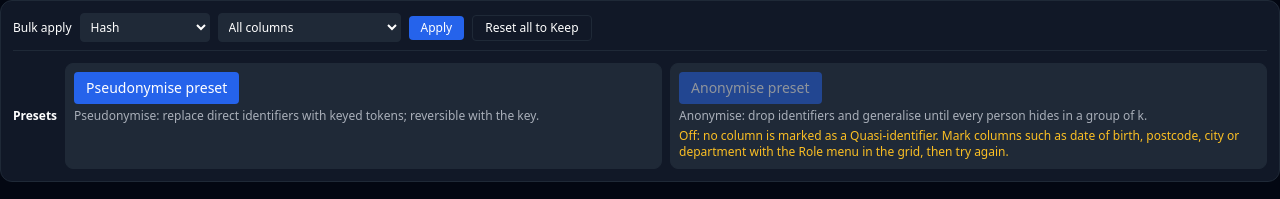
Scenario: BulkPolicyBar › applies to all columns and announces the count
Select "Redact" in the dropdown named "Policy to apply" at (145,28), box [80,13,210,42]
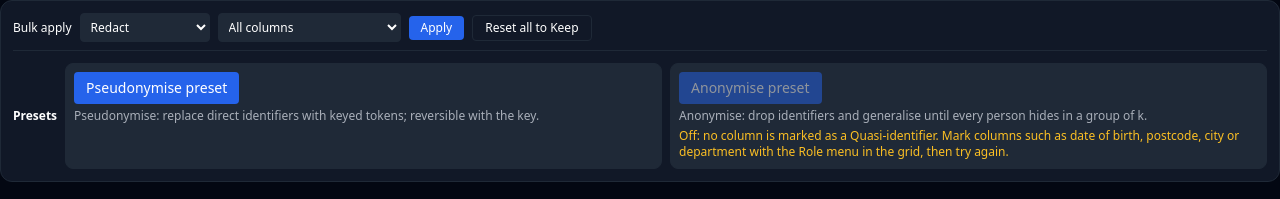
Click the button "Apply" at (436,28), box [409,16,464,40]
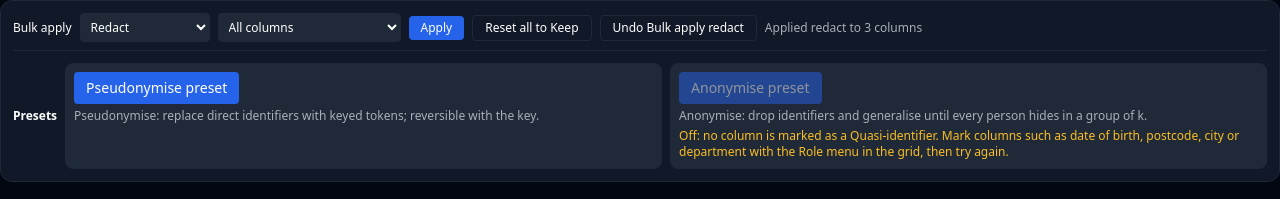
expect the message reads "Applied redact to 3 columns": met, box [765,18,922,36]
